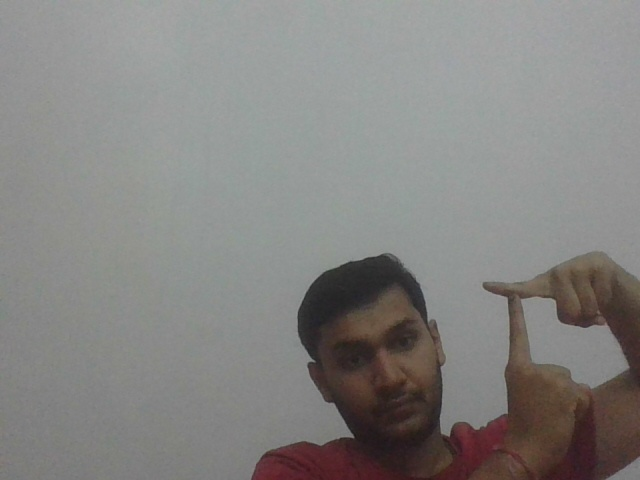T: (481, 272, 542, 360)
